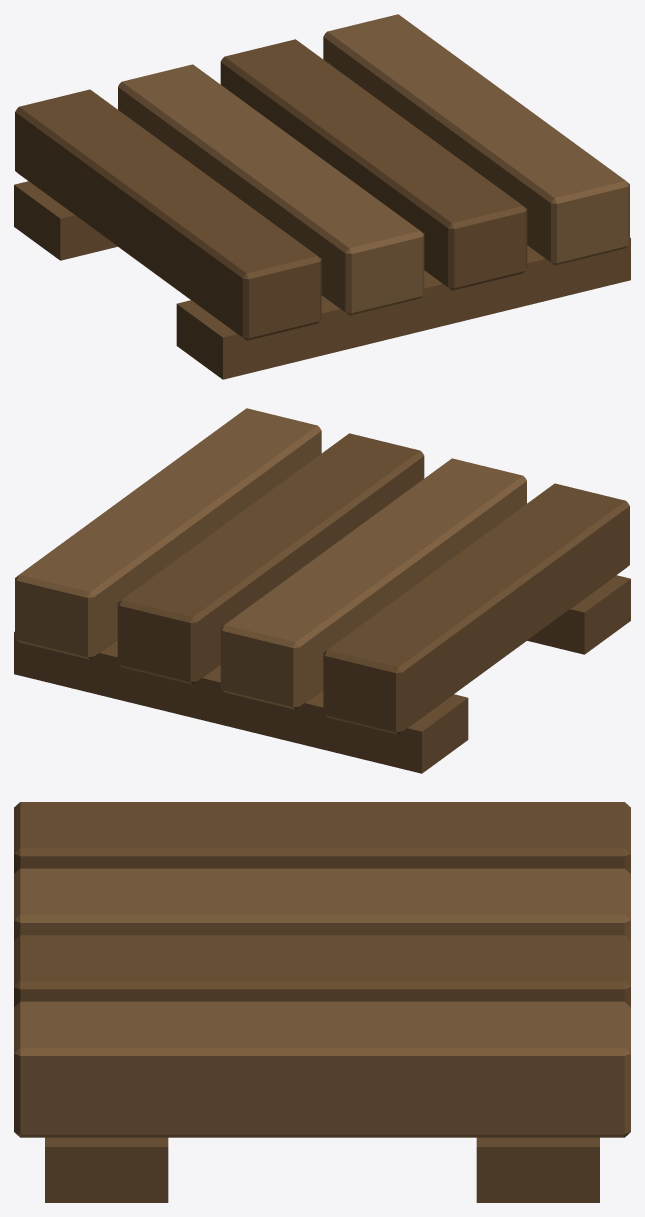
File: Cube_Bridge.fbx
3 views of the same model, one above another, from view 1: azimuth 30°, elevation 25°; view 2: azimuth 150°, elevation 25°; view 3: azimuth 270°, elevation 25° (orthographic). The views are drawn at different scales.
Visible parts, largest first — view 1: Cube_Bridge; view 2: Cube_Bridge; view 3: Cube_Bridge.
Part boxes in pixels (bbox=[...]): Cube_Bridge: bbox=[14, 14, 630, 379]; Cube_Bridge: bbox=[14, 408, 630, 773]; Cube_Bridge: bbox=[14, 802, 630, 1202].
Size of the model in its own units: 2.03 by 0.5215 by 2.
